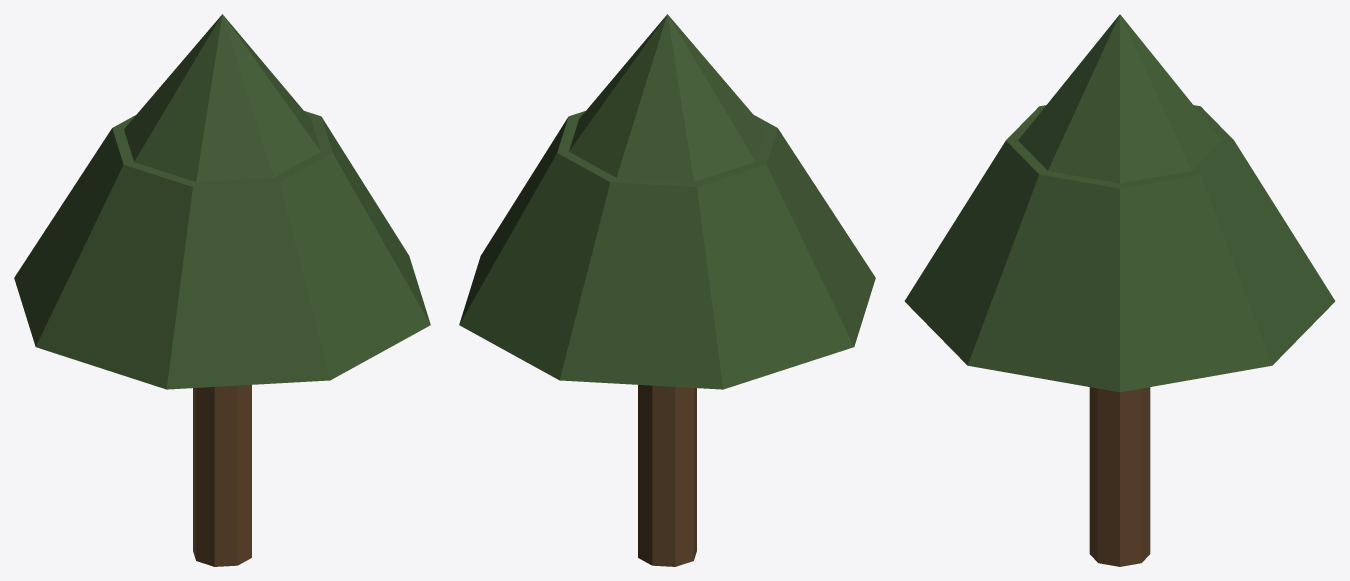
Rendered from RF_Prop_Tree_Intact.glb.
3 views of the same model, side by side, from view 1: azimuth 30°, elevation 25°; view 2: azimuth 150°, elevation 25°; view 3: azimuth 270°, elevation 25° (orthographic).
Parts seen in each view (by area): view 1: RF_Prop_Tree_Intact; view 2: RF_Prop_Tree_Intact; view 3: RF_Prop_Tree_Intact.
Part boxes in pixels (left/top/right/bottom): RF_Prop_Tree_Intact: left=14, top=14, right=430, bottom=566; RF_Prop_Tree_Intact: left=459, top=14, right=875, bottom=566; RF_Prop_Tree_Intact: left=904, top=14, right=1335, bottom=566.
Size of the model in its own units: 3.4 by 4.7 by 3.4.
